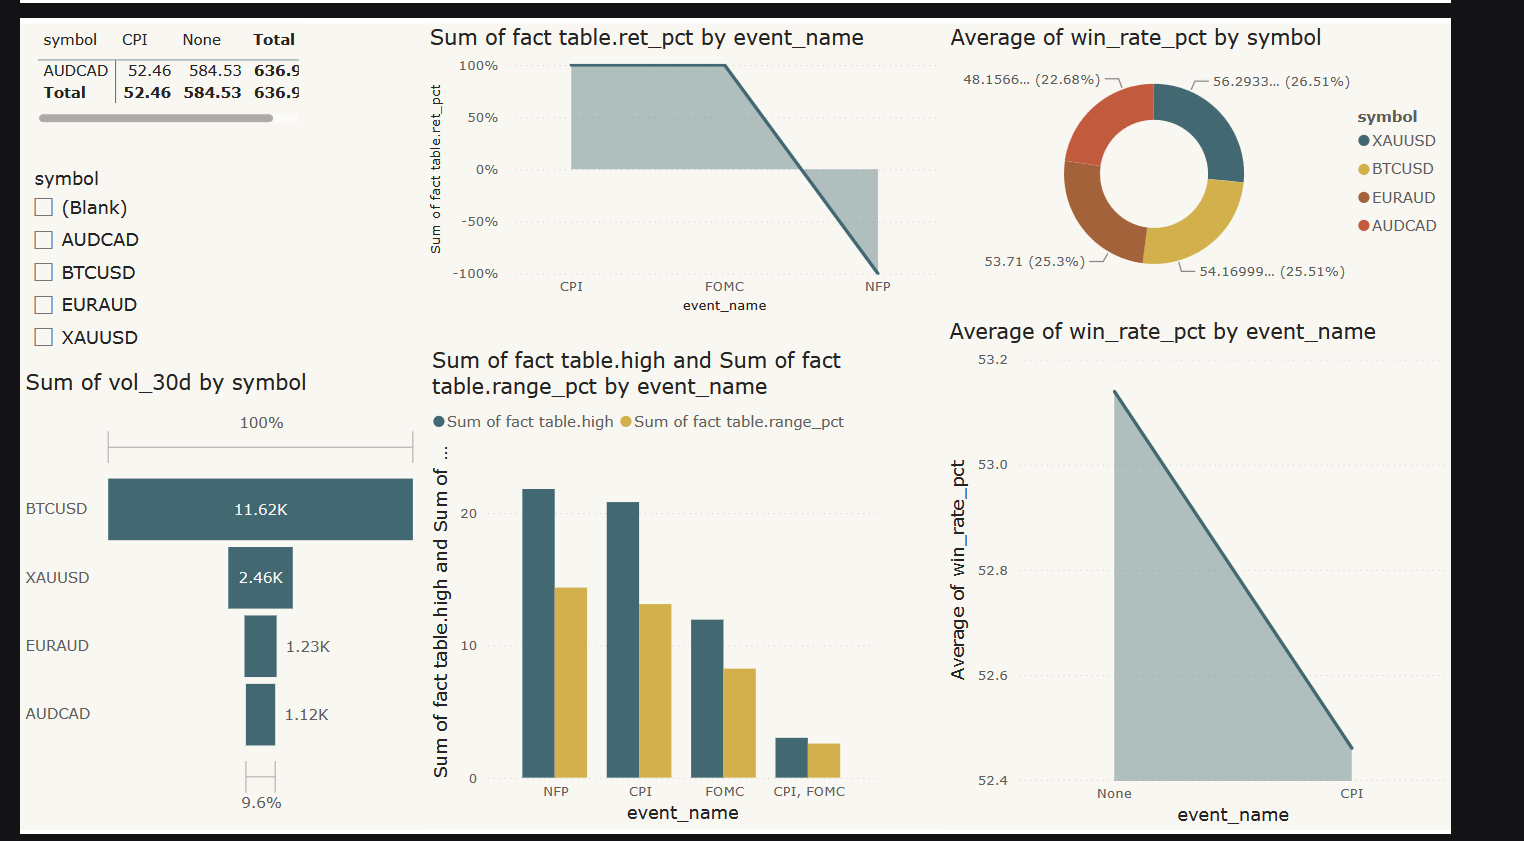

The page's visual inventory and layout, read from the dashboard file:
{"tool":"powerbi","page":{"name":"risk and events","canvas":[1280,720],"ordinal":3},"visuals":[{"type":"pivotTable","fields":{"Rows":["fact table.symbol"],"Values":["Sum(forex_cascade vw_event_impact.win_rate_pct)"],"Columns":["fact table.event_name"]},"box":[10.6,0,243.1,94],"z":0},{"type":"stackedAreaChart","fields":{"Category":["fact table.event_name"],"Y":["Avg(forex_cascade vw_event_impact.win_rate_pct)"]},"box":[825.1,262.6,454.3,457.8],"z":1000},{"type":"donutChart","fields":{"Category":["forex_cascade vw_event_impact.symbol"],"Y":["Avg(forex_cascade vw_event_impact.win_rate_pct)"]},"box":[825.8,0,453.4,245.2],"z":2000},{"type":"slicer","fields":{"Values":["forex_cascade vw_event_impact.symbol"]},"box":[0,122.6,242.9,185.1],"z":3000},{"type":"clusteredColumnChart","fields":{"Category":["fact table.event_name"],"Y":["Sum(forex_cascade vw_risk_metrics.fact table.high)","Sum(forex_cascade vw_risk_metrics.fact table.range_pct)"]},"box":[363.2,289.2,407.1,430.3],"z":4000},{"type":"hundredPercentStackedAreaChart","fields":{"Category":["fact table.event_name"],"Y":["Sum(forex_cascade vw_risk_metrics.fact table.ret_pct)"]},"box":[360.9,0,465,263.7],"z":5000},{"type":"funnel","fields":{"Category":["forex_cascade vw_risk_metrics.symbol"],"Y":["Sum(forex_cascade vw_risk_metrics.vol_30d)"]},"box":[0,307.7,360.9,411.8],"z":6000}]}

Visuals, with their boxes in screenshot pixels (x1, y1, x2, y2), scaled from the page's 1280x720 canvas onto the 1524x841 screenshot:
pivotTable - fact table.symbol x Sum(forex_cascade vw_event_impact.win_rate_pct): rect(13, 0, 302, 110)
stackedAreaChart - fact table.event_name x Avg(forex_cascade vw_event_impact.win_rate_pct): rect(982, 307, 1523, 840)
donutChart - forex_cascade vw_event_impact.symbol x Avg(forex_cascade vw_event_impact.win_rate_pct): rect(983, 0, 1523, 286)
slicer - forex_cascade vw_event_impact.symbol: rect(0, 143, 289, 359)
clusteredColumnChart - fact table.event_name x Sum(forex_cascade vw_risk_metrics.fact table.high): rect(432, 338, 917, 840)
hundredPercentStackedAreaChart - fact table.event_name x Sum(forex_cascade vw_risk_metrics.fact table.ret_pct): rect(430, 0, 983, 308)
funnel - forex_cascade vw_risk_metrics.symbol x Sum(forex_cascade vw_risk_metrics.vol_30d): rect(0, 359, 430, 840)
